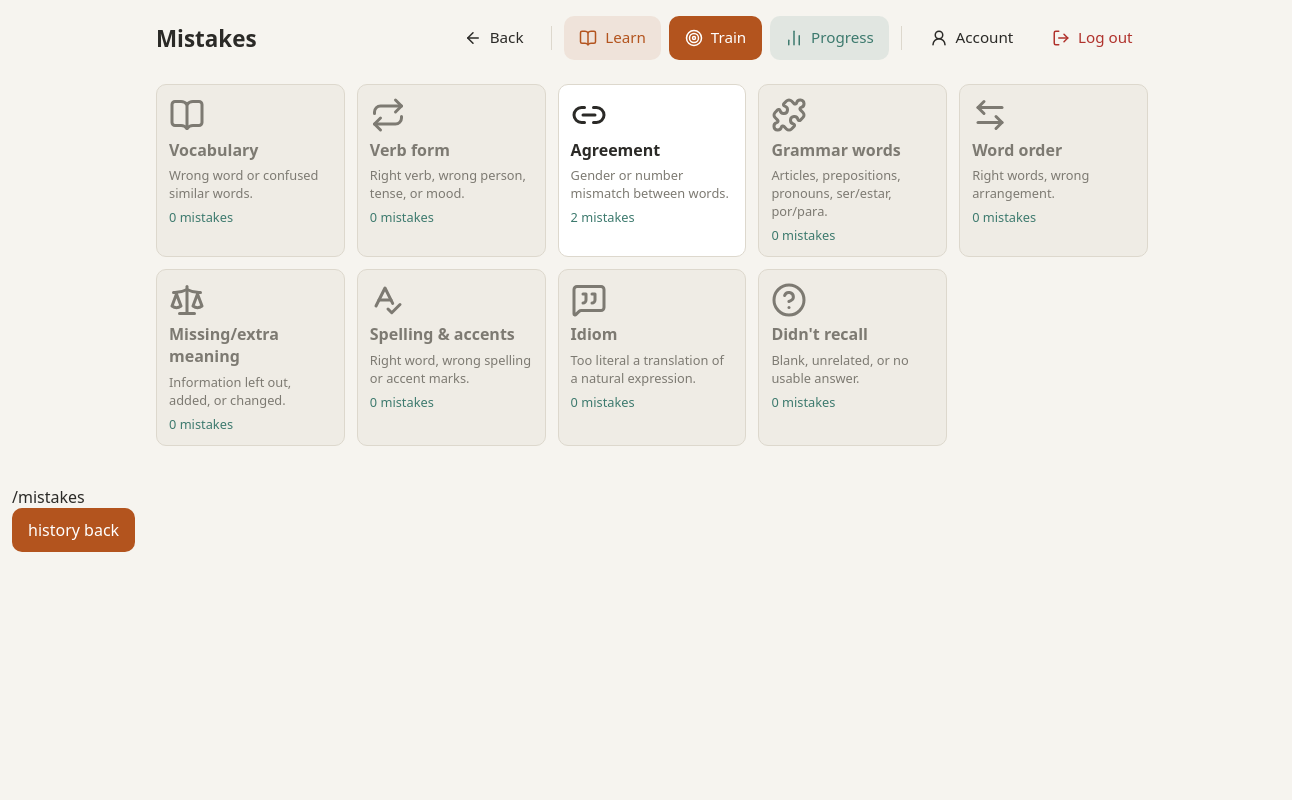
Test case: MistakesPage › opens a category with mistakes and renders its table
The image size is (1292, 800).
expect the text "Agreement" is shown: met, box [571,139,660,161]
Click the button "Agreement" at (652, 161), box [571,97,733,226]
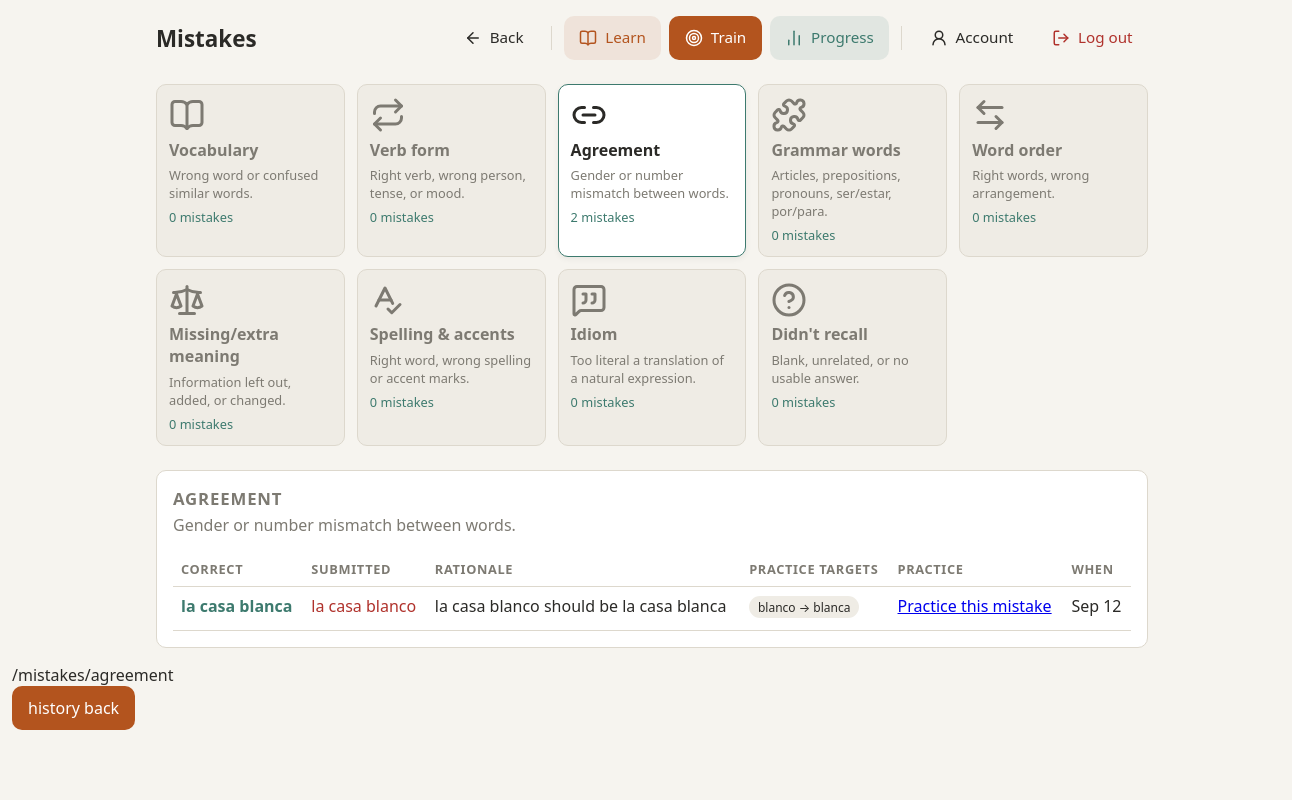
expect the text "la casa blanca" is shown: met, box [173,586,303,630]
expect the text "la casa blanco" is shown: met, box [303,586,427,630]
expect the text "la casa blanco should be la casa blanca" is shown: met, box [435,595,726,617]
